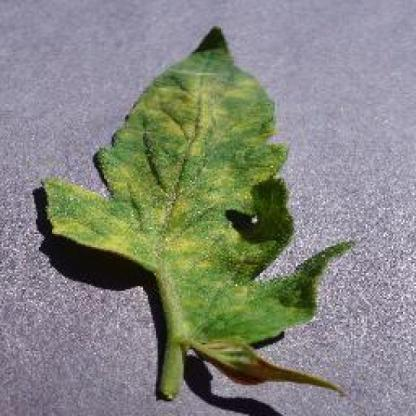Tomato_Leaf_Mold: (43, 23, 354, 339)
